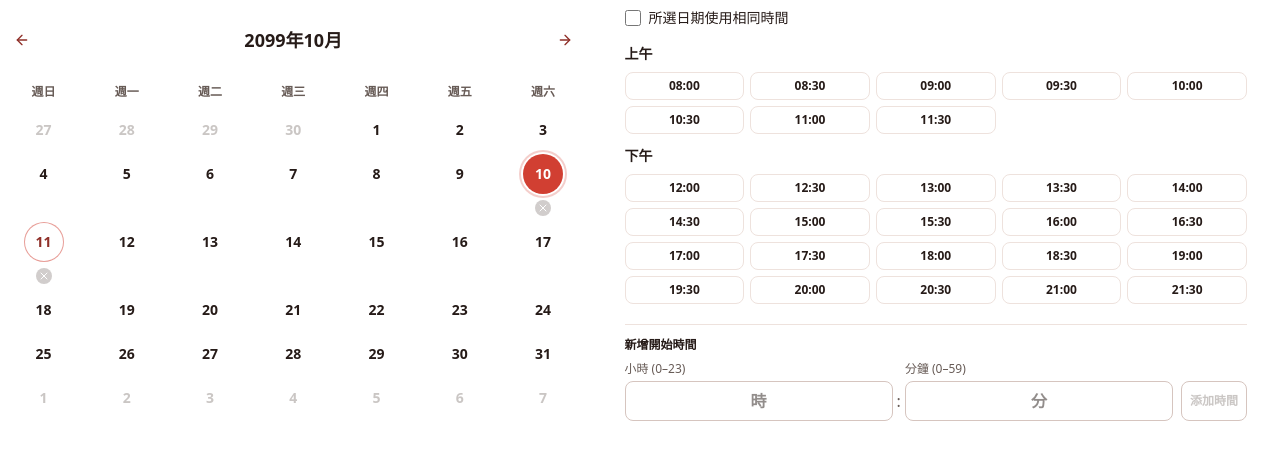
Test: schedule time cards › localizes expanded groups in zh-Hant
The image size is (1262, 466).
Expected: the element "上午" is shown, top-left (624, 44), bottom-right (1247, 134)
Expected: the element "下午" is shown, top-left (624, 146), bottom-right (1247, 304)
Type "21" into the field labelled "小時 (0–23)". click: (759, 401)
box: top-left (624, 381), bottom-right (893, 421)
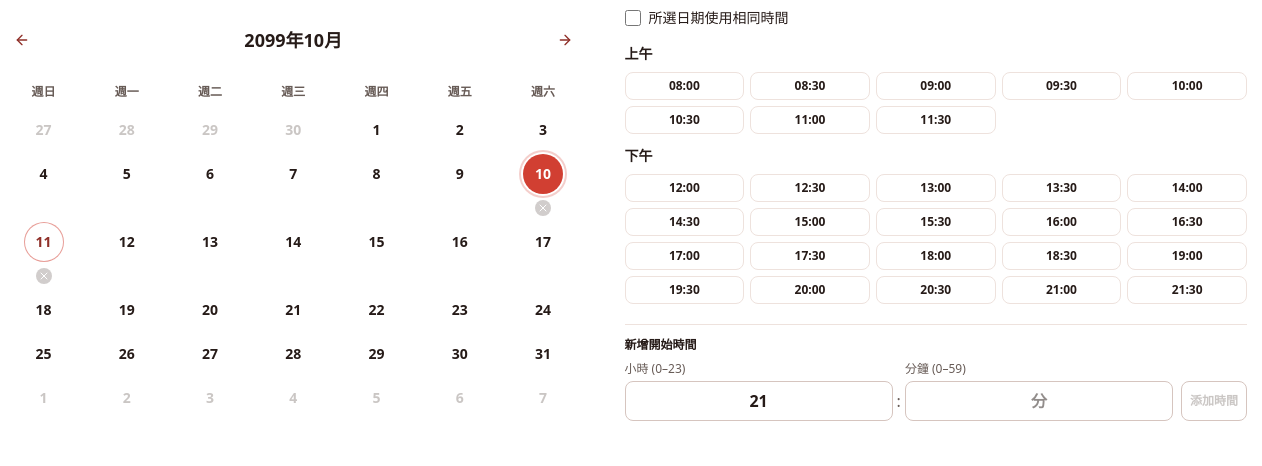
Type "53" into the field labelled "分鐘 (0–59)". click: (1039, 401)
box: top-left (905, 381), bottom-right (1173, 421)
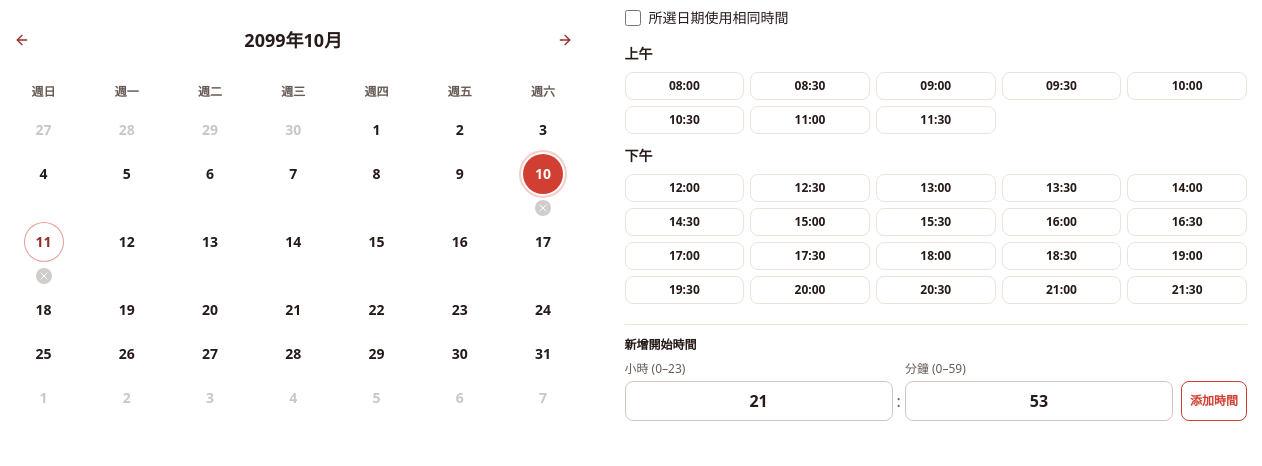
Click the button "添加時間". click: (1214, 401)
box: top-left (1181, 381), bottom-right (1247, 421)
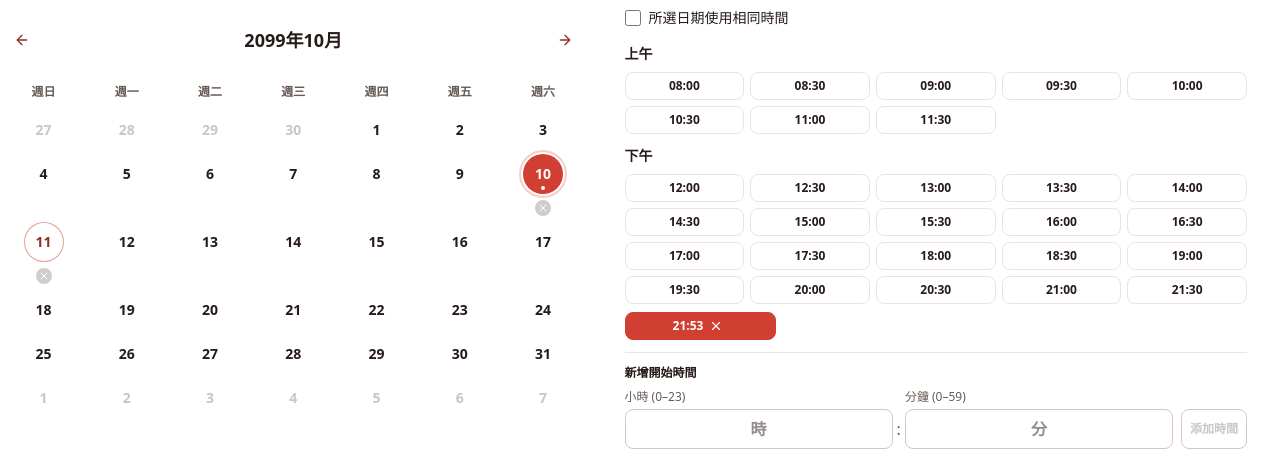
Expected: the element with test id "schedule-time-2099-10-10-21:53" reads "21:53", top-left (673, 317), bottom-right (704, 334)
